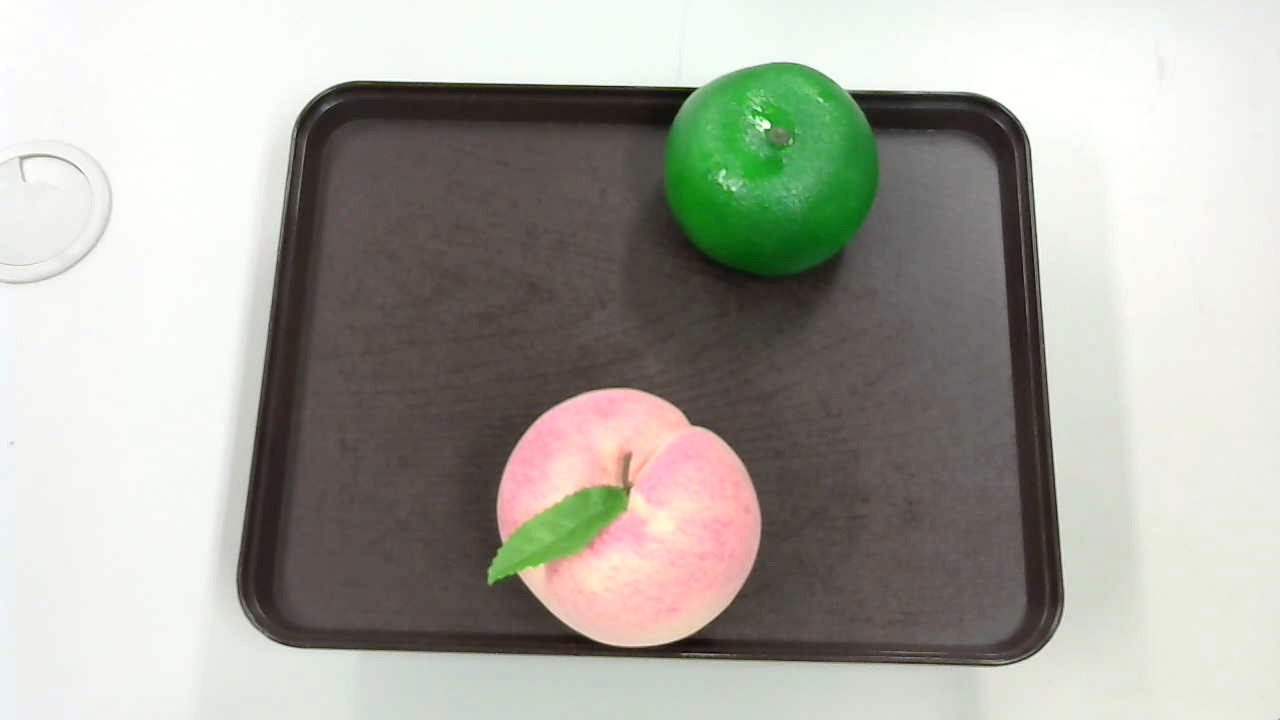green orange: (663, 62, 884, 288)
peach: (479, 374, 766, 649)
